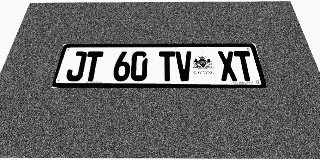0: (130, 51, 148, 81)
6: (112, 51, 132, 81)
J: (65, 51, 87, 81)
T: (233, 51, 256, 81), (82, 51, 103, 81), (159, 51, 176, 81)
V: (175, 51, 193, 81)
X: (217, 51, 239, 81)
